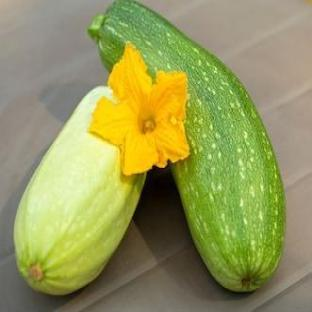Zucchini: (15, 87, 145, 295)
